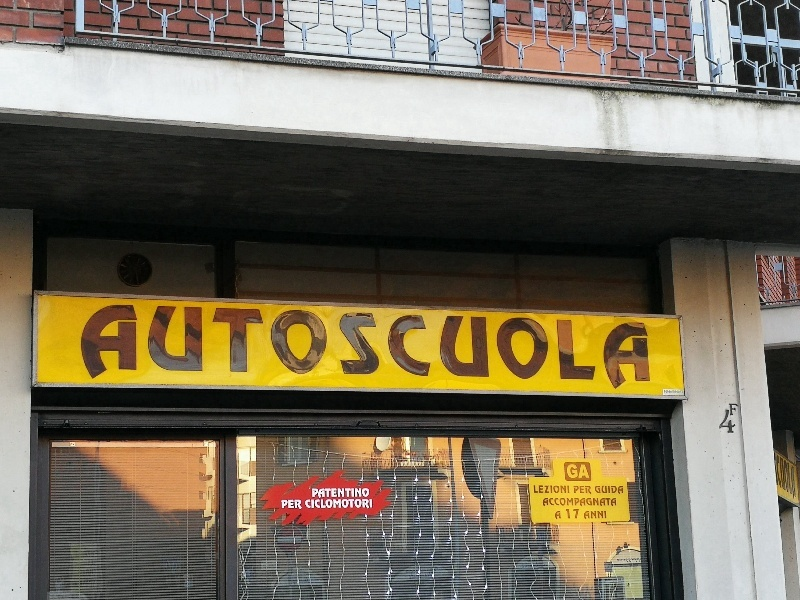text: (81, 304, 96, 393), (97, 304, 112, 393), (113, 304, 128, 393), (129, 304, 144, 393), (145, 304, 160, 393), (161, 304, 176, 393), (177, 304, 192, 393), (193, 304, 208, 393), (209, 304, 224, 393), (225, 304, 240, 393), (241, 304, 256, 393), (257, 304, 272, 393), (273, 304, 288, 393), (289, 304, 304, 393), (305, 304, 320, 393), (321, 304, 336, 393), (337, 304, 352, 393), (353, 304, 368, 393), (369, 304, 384, 393), (385, 304, 400, 393), (401, 304, 416, 393), (417, 304, 432, 393), (433, 304, 448, 393), (449, 304, 464, 393), (465, 304, 480, 393), (481, 304, 496, 393), (497, 304, 512, 393), (513, 304, 528, 393), (529, 304, 544, 393), (545, 304, 560, 393), (561, 304, 576, 393), (577, 304, 592, 393), (593, 304, 608, 393), (609, 304, 624, 393), (625, 304, 640, 393), (641, 304, 653, 393), (785, 455, 797, 502), (777, 455, 784, 502), (725, 410, 736, 434), (577, 464, 590, 479), (321, 488, 336, 499), (337, 488, 352, 499), (353, 488, 368, 499), (305, 499, 320, 510), (321, 499, 336, 510), (337, 499, 352, 510), (353, 499, 368, 510), (289, 500, 303, 510), (567, 464, 576, 479), (545, 485, 560, 494), (609, 486, 624, 495), (545, 498, 560, 507), (561, 498, 576, 507), (577, 498, 592, 507), (593, 498, 608, 507), (593, 511, 607, 520), (577, 486, 592, 494), (595, 486, 608, 495), (566, 509, 576, 519), (534, 485, 544, 494), (312, 488, 320, 499), (729, 404, 736, 416), (561, 485, 570, 494), (609, 498, 617, 507), (584, 511, 592, 520), (281, 500, 288, 510), (555, 511, 560, 521), (369, 499, 373, 510), (577, 509, 580, 519), (673, 391, 683, 393), (574, 486, 576, 494), (664, 391, 672, 393), (737, 404, 738, 416), (369, 488, 370, 499), (543, 498, 544, 507)
